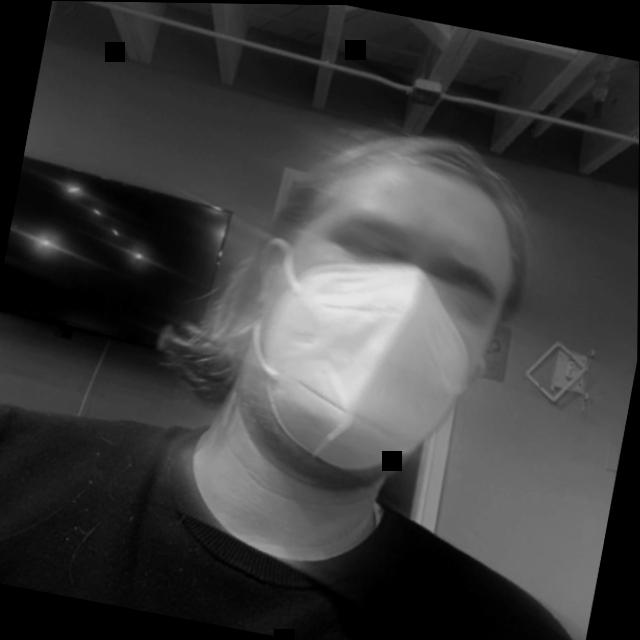Mask: (111, 63, 595, 595)
